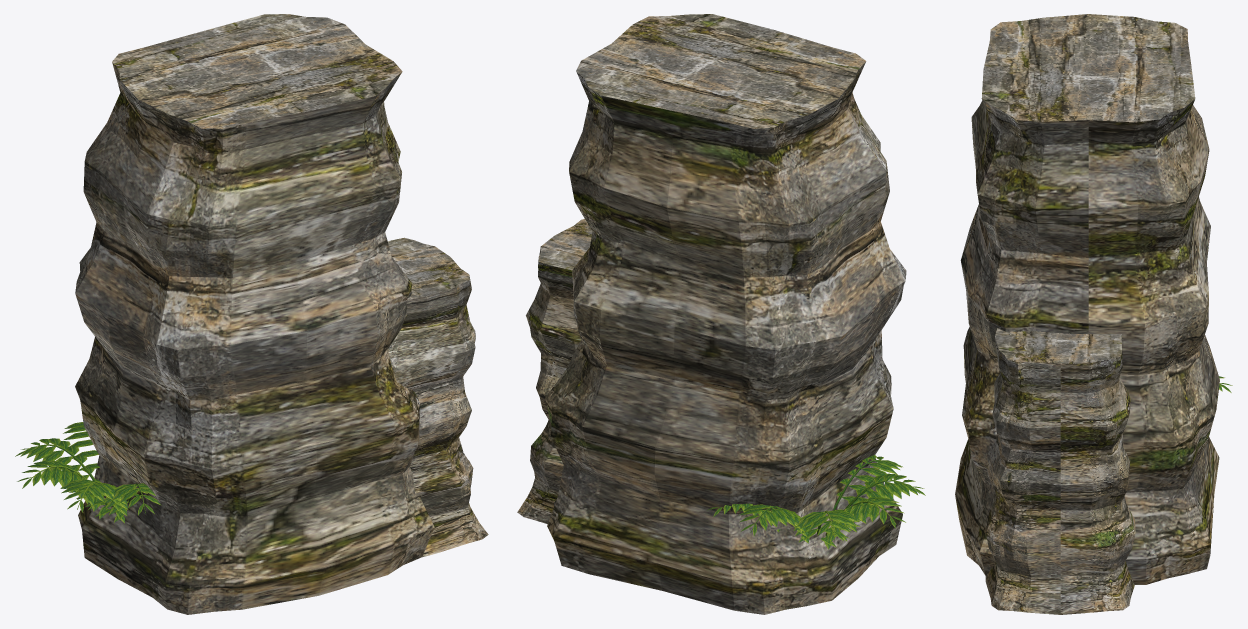
The model's file is BasaltSpire.fbx.
3 renders of one model, left to right at view 1: azimuth 30°, elevation 25°; view 2: azimuth 150°, elevation 25°; view 3: azimuth 270°, elevation 25°, orthographic. The views are drawn at different scales.
Visible parts, largest first — view 1: BasaltSpire_LOD0; view 2: BasaltSpire_LOD0; view 3: BasaltSpire_LOD0.
Boxes of the visible parts, x1,y1,x2,y2 form: BasaltSpire_LOD0: (15, 14, 488, 614); BasaltSpire_LOD0: (517, 14, 925, 614); BasaltSpire_LOD0: (955, 14, 1232, 614).
Size of what is drawn, in the model's own units: 4.83 by 5.4 by 3.
